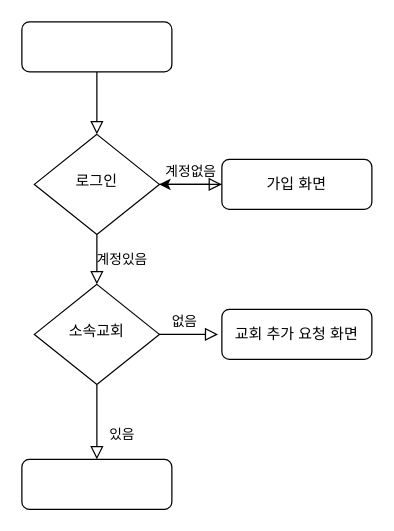
Image size: 394x531. Some labels were removed from this diagram. Here are the shapes that lost their labels. From the top down, the box of each, then its label:
(21, 21, 172, 72): Gate 화면
(21, 458, 172, 509): 메인화면
